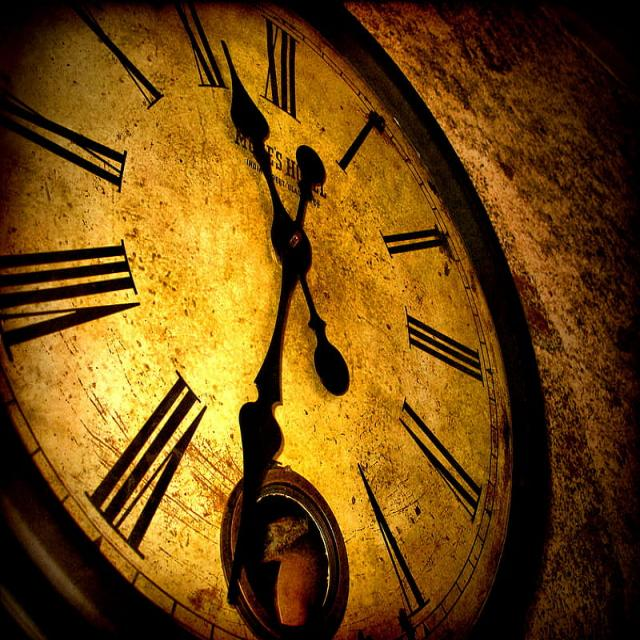clock: (125, 262, 573, 640)
